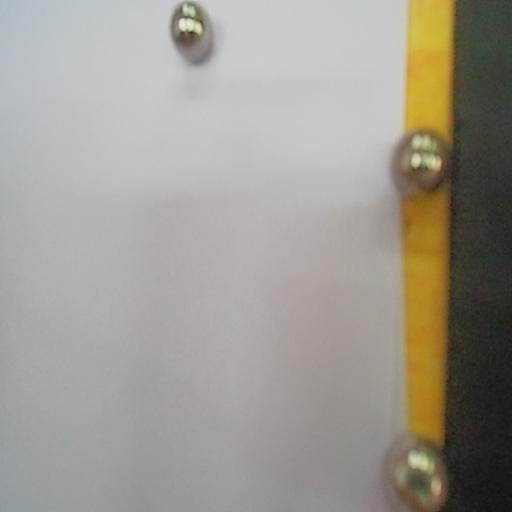steel-ball: (389, 118, 453, 203), (387, 434, 452, 512), (165, 4, 218, 74)
